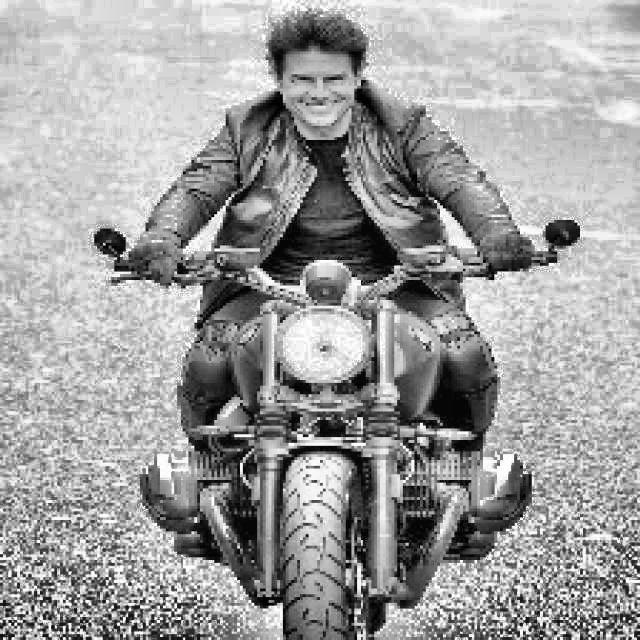motorcycle: (66, 217, 598, 640)
